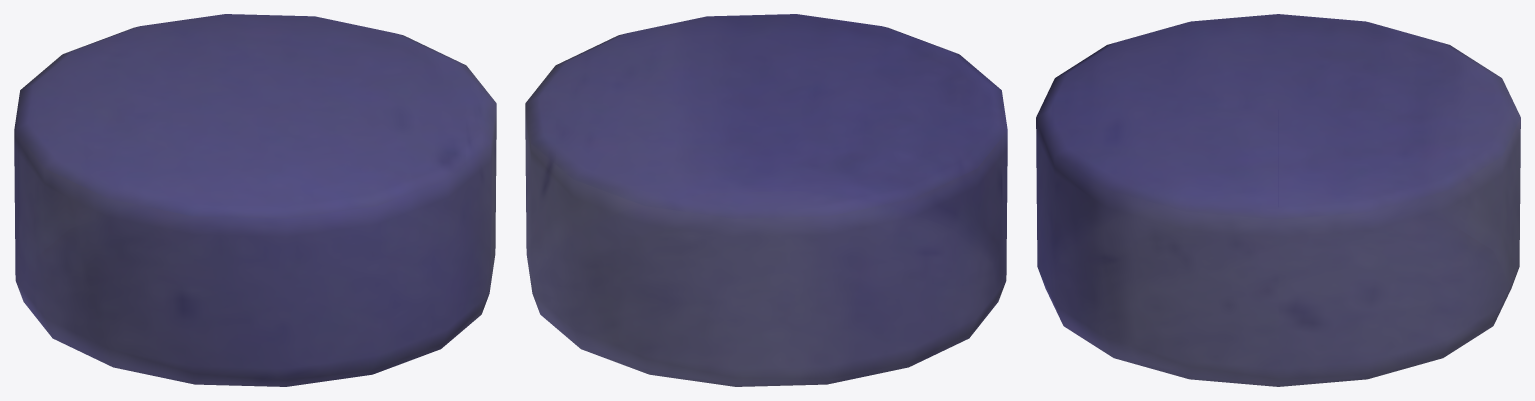
Rendered from bottle_content_a.glb.
3 renders of one model, left to right at view 1: azimuth 30°, elevation 25°; view 2: azimuth 150°, elevation 25°; view 3: azimuth 270°, elevation 25°, orthographic.
Visible parts, largest first — view 1: chemistry_set_bottle_content_a.001; view 2: chemistry_set_bottle_content_a.001; view 3: chemistry_set_bottle_content_a.001.
Part boxes in pixels (x1=…): chemistry_set_bottle_content_a.001: x1=14, y1=14, x2=496, y2=386; chemistry_set_bottle_content_a.001: x1=525, y1=14, x2=1007, y2=386; chemistry_set_bottle_content_a.001: x1=1036, y1=14, x2=1520, y2=386.
Bounding box in the file's own units: 0.0454 × 0.0192 × 0.0454.
1 material, 1 textured.
